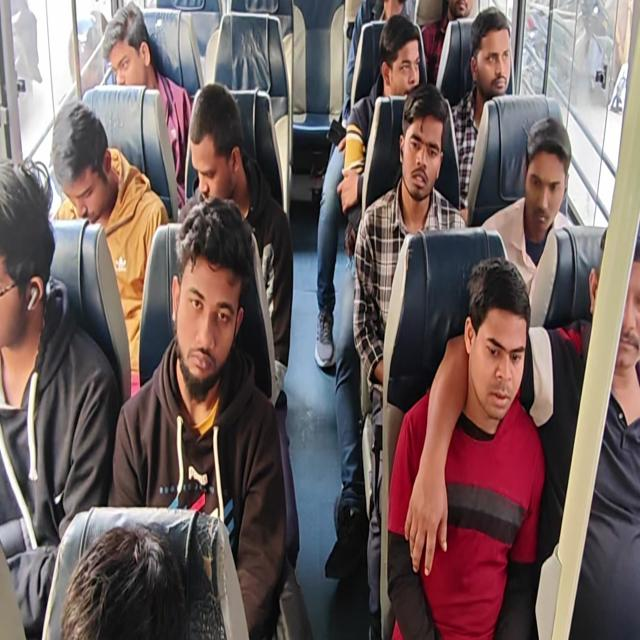person: (1, 1, 638, 638), (410, 226, 640, 638), (107, 195, 289, 638), (352, 82, 468, 638), (386, 256, 546, 638), (0, 157, 121, 638), (314, 11, 422, 369), (549, 225, 640, 639), (180, 81, 294, 404), (49, 100, 170, 396), (101, 1, 193, 209), (480, 115, 573, 296), (60, 522, 187, 639), (450, 6, 512, 213), (338, 1, 412, 140), (421, 0, 474, 85)
